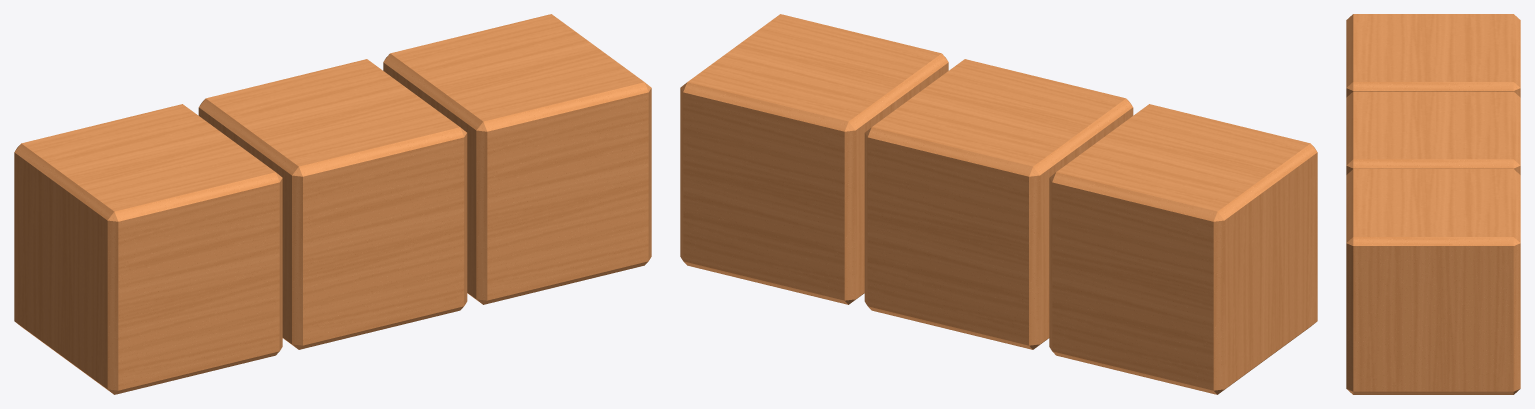
File: piece_I3.glb
3 views of the same model, side by side, from view 1: azimuth 30°, elevation 25°; view 2: azimuth 150°, elevation 25°; view 3: azimuth 270°, elevation 25° (orthographic). The views are drawn at different scales.
Parts seen in each view (by area): view 1: piece_I3; view 2: piece_I3; view 3: piece_I3.
Part boxes in pixels (x1,y1,x2,y2): piece_I3: (14, 14, 651, 394); piece_I3: (680, 14, 1317, 394); piece_I3: (1346, 14, 1520, 394).
Bounding box in the file's own units: 0.118 × 0.038 × 0.038.
1 material, 1 textured.
